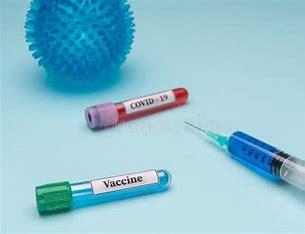Syringe: (181, 114, 305, 190), (30, 166, 176, 220), (82, 83, 194, 129)
